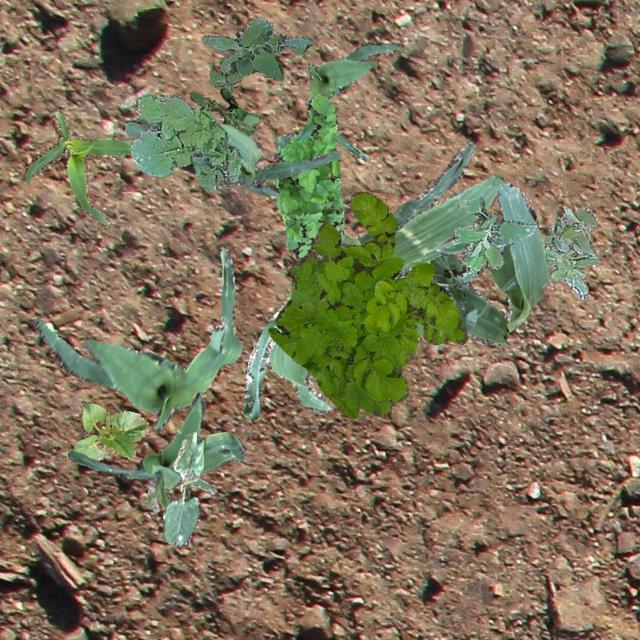crop: (32, 246, 242, 430), (274, 132, 502, 278), (242, 232, 368, 418), (66, 392, 245, 512), (124, 114, 338, 194), (454, 176, 550, 346), (20, 109, 136, 228), (306, 42, 404, 160), (62, 400, 150, 460), (162, 431, 204, 546), (428, 252, 476, 332)
weed: (266, 190, 466, 418), (272, 92, 344, 258), (130, 92, 242, 190), (436, 196, 536, 284), (200, 17, 312, 92), (542, 205, 598, 298), (188, 86, 260, 134), (414, 321, 422, 334)
